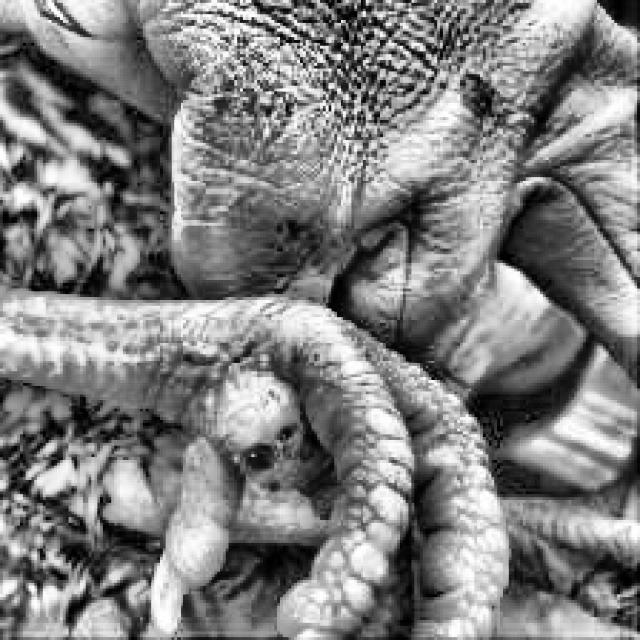Bumble foot: (158, 350, 392, 516)
